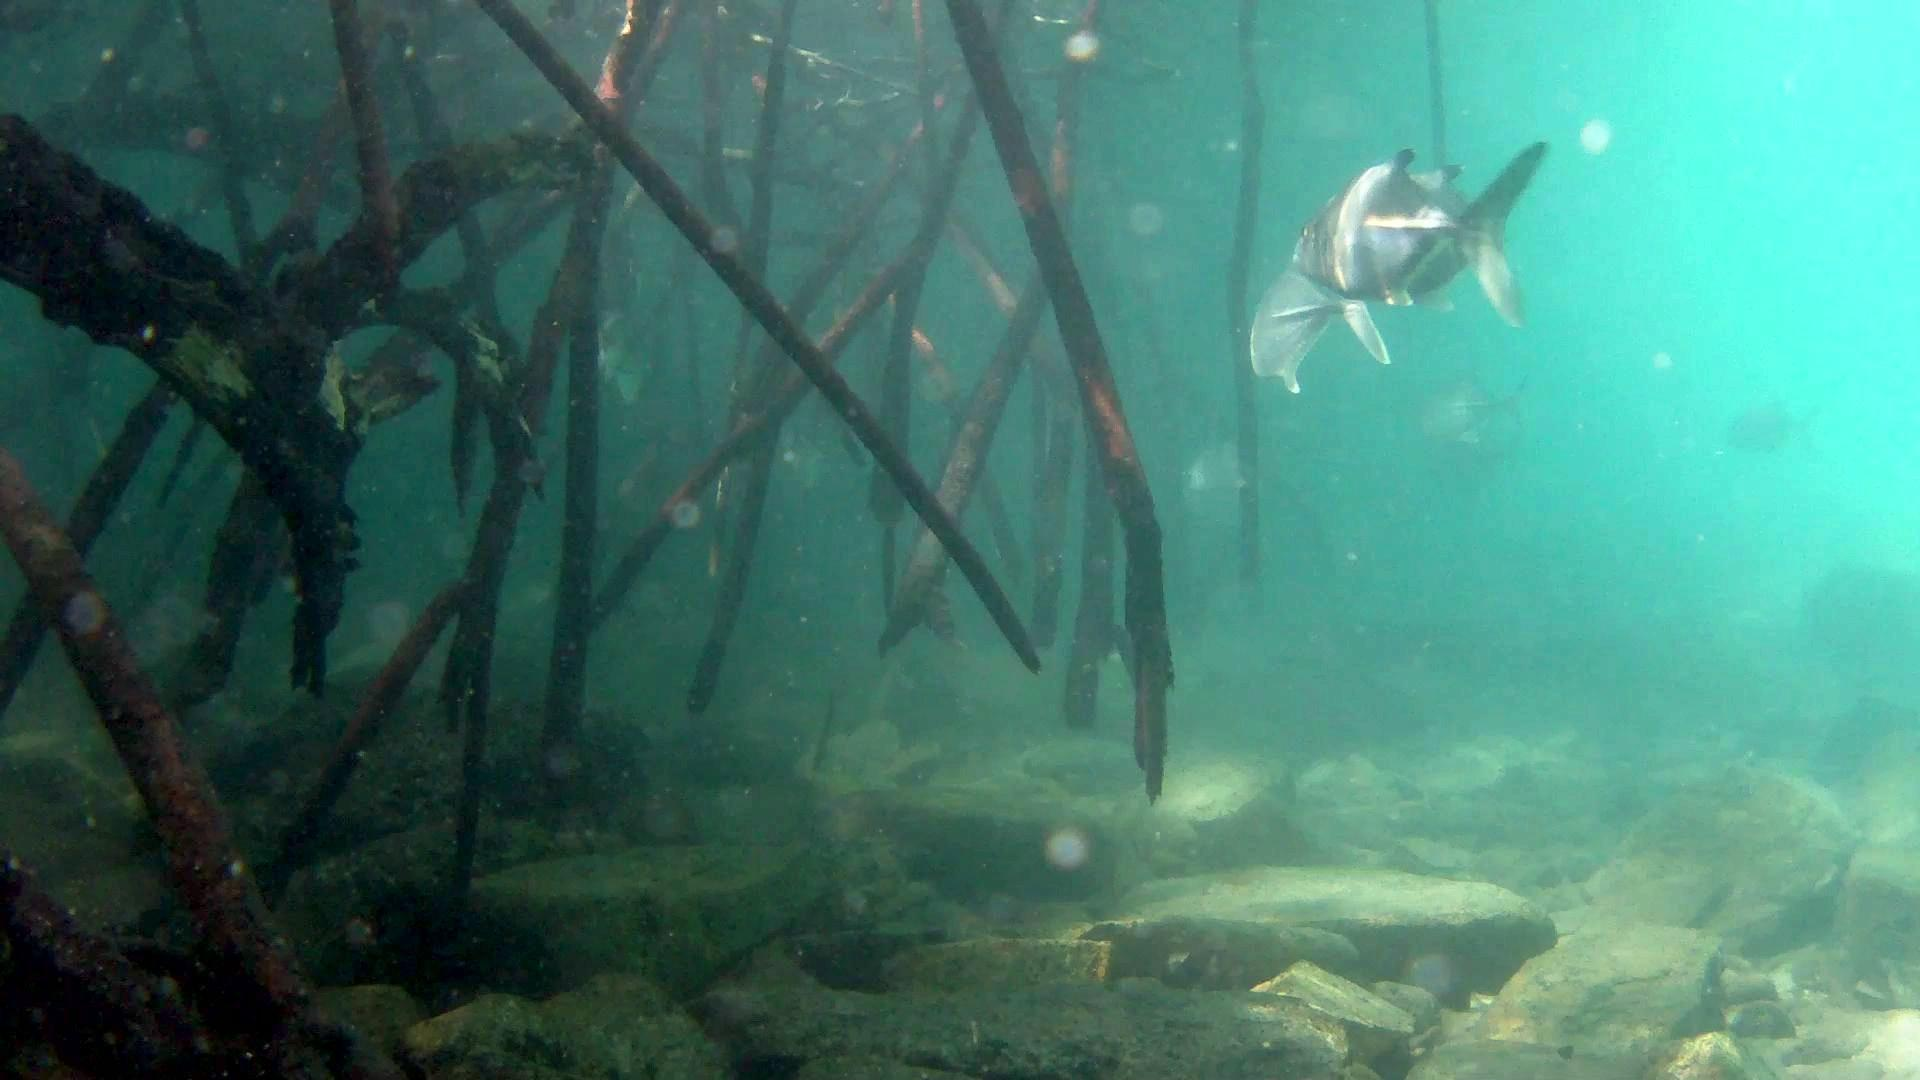caranx: (1282, 141, 1495, 313)
